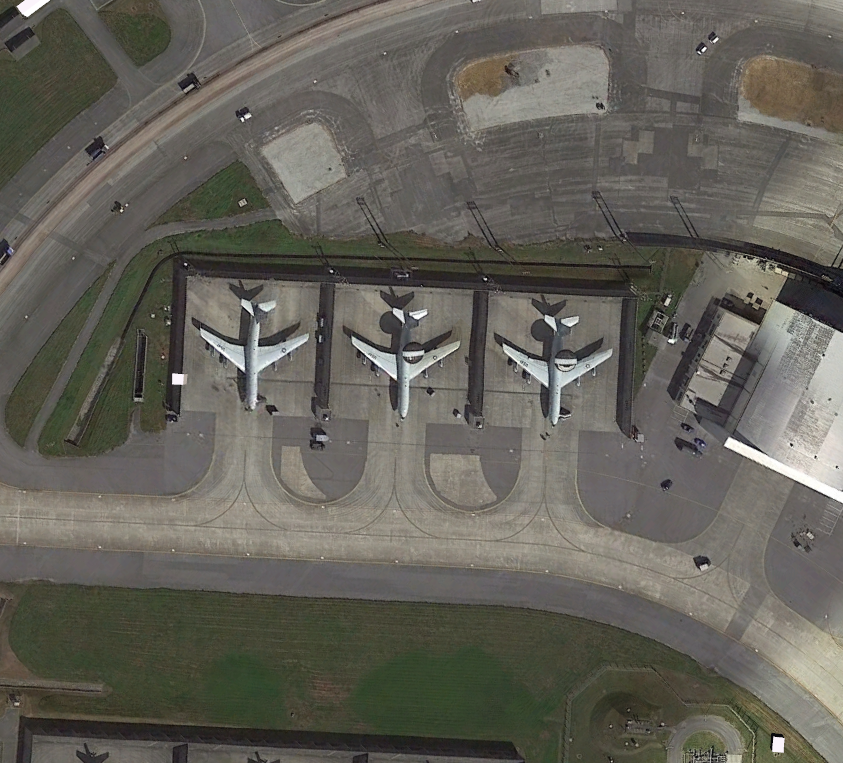A11: (195, 291, 314, 410)
A7: (344, 298, 463, 417), (498, 306, 617, 425)
